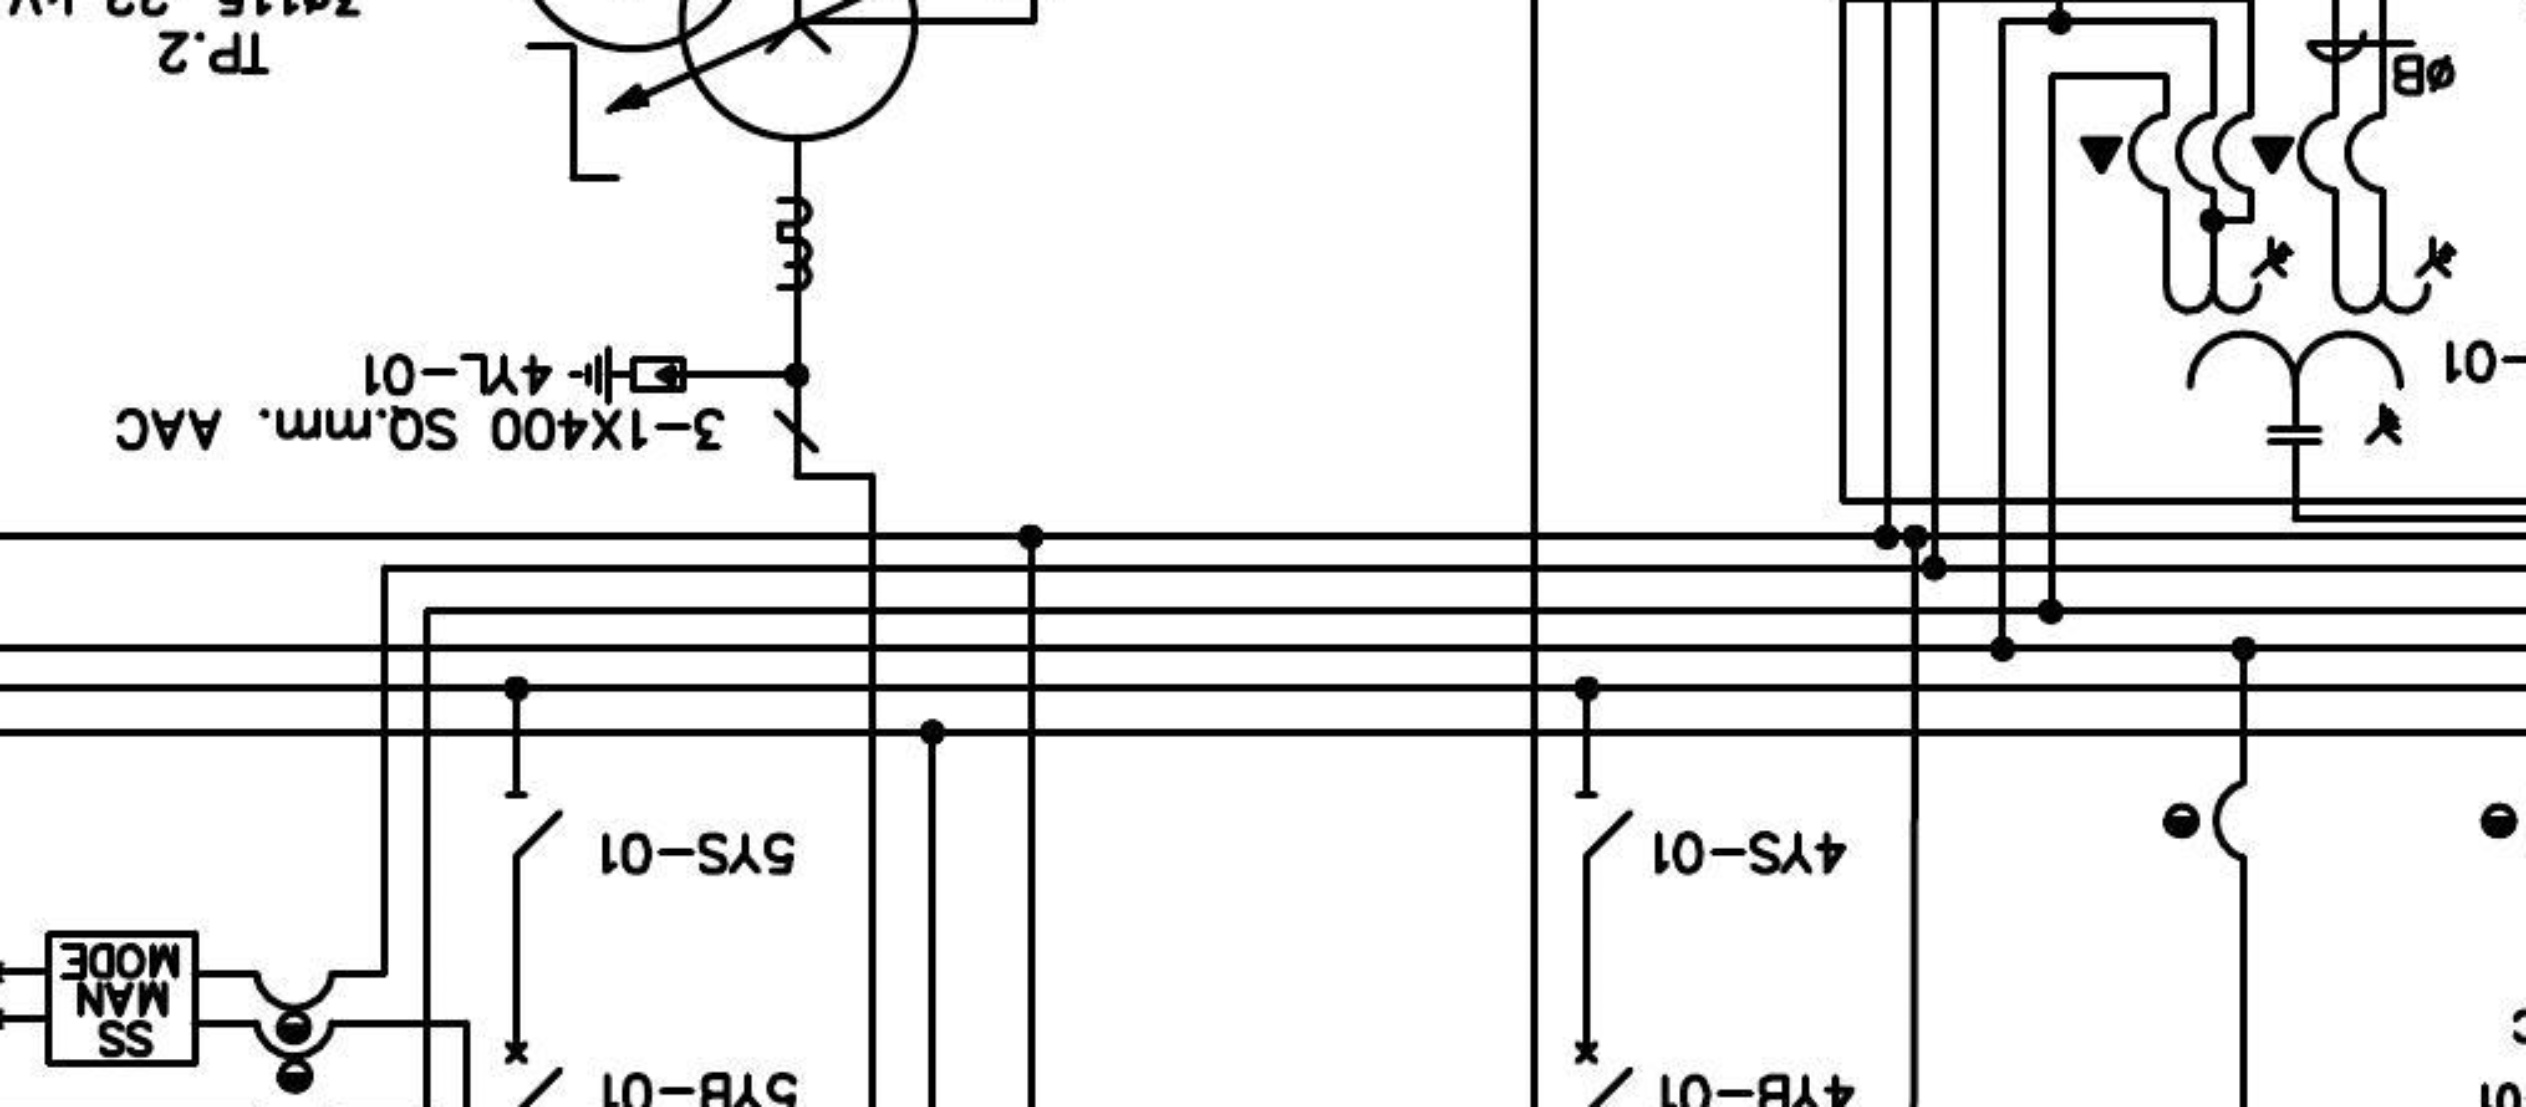115_cvt_3p: (2161, 233, 2460, 447)
115_ds: (501, 791, 565, 860), (1572, 791, 1635, 860)
115_la: (566, 343, 687, 407)
ss_man_mode: (44, 928, 201, 1068)
